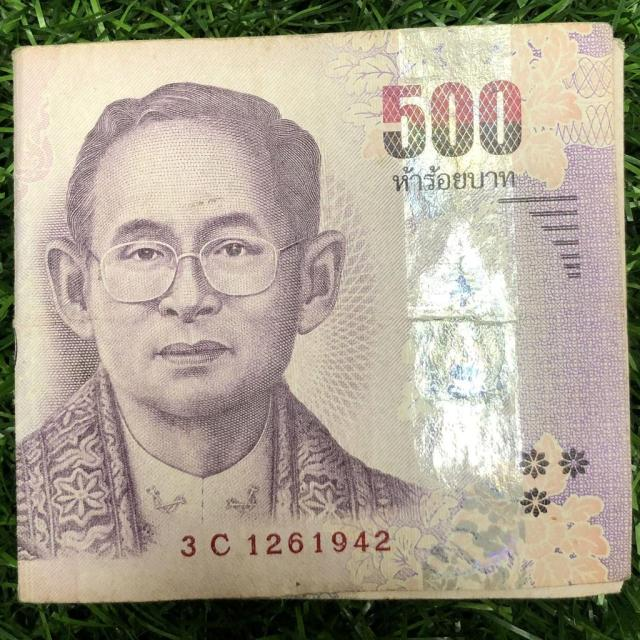THAI500: (14, 23, 631, 602)
